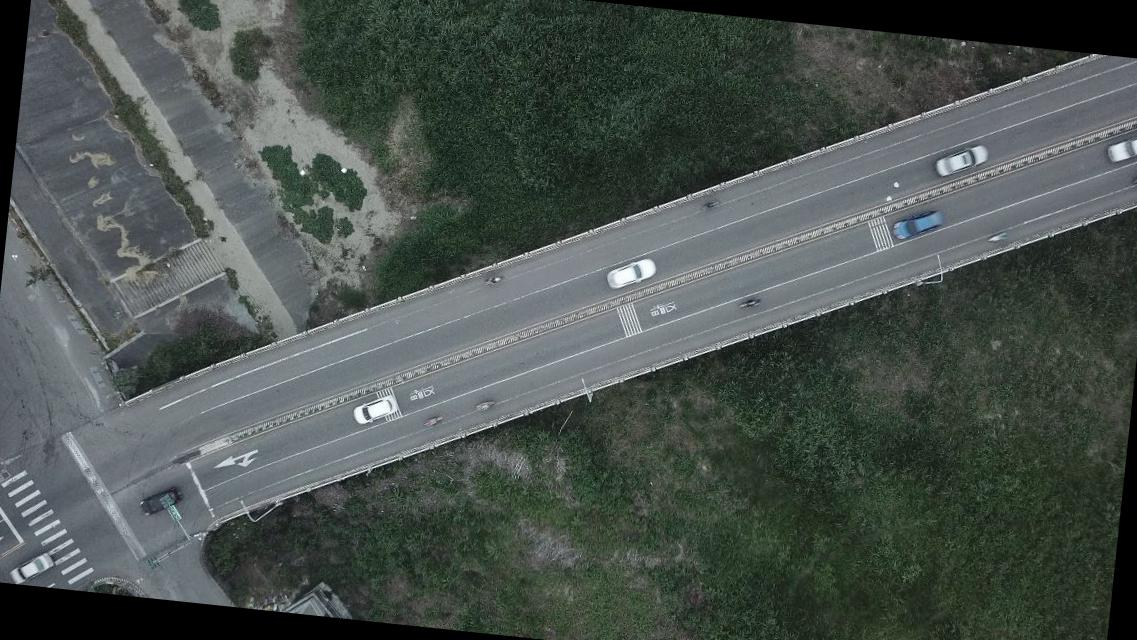vehicle: (932, 138, 990, 182), (604, 252, 660, 293), (5, 548, 56, 586), (892, 205, 944, 242), (350, 390, 398, 430), (140, 480, 182, 520), (1103, 123, 1136, 169)
